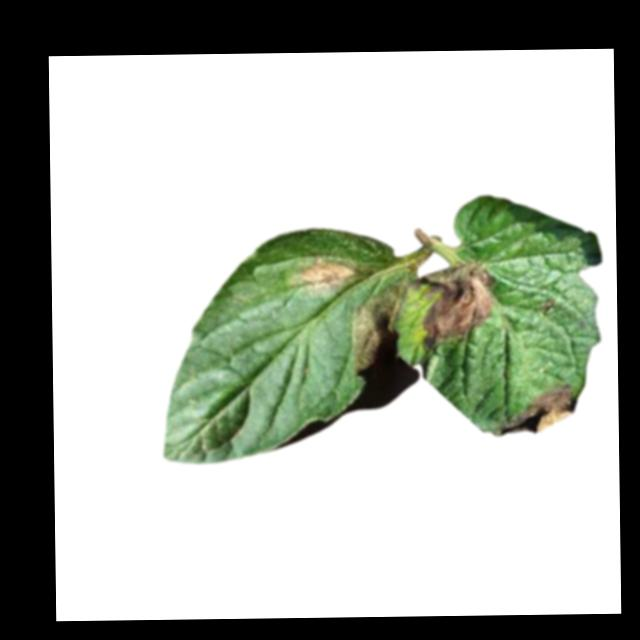Late_blight: (420, 260, 497, 355), (351, 280, 409, 374), (492, 386, 577, 436), (295, 255, 363, 294), (542, 298, 556, 312)
